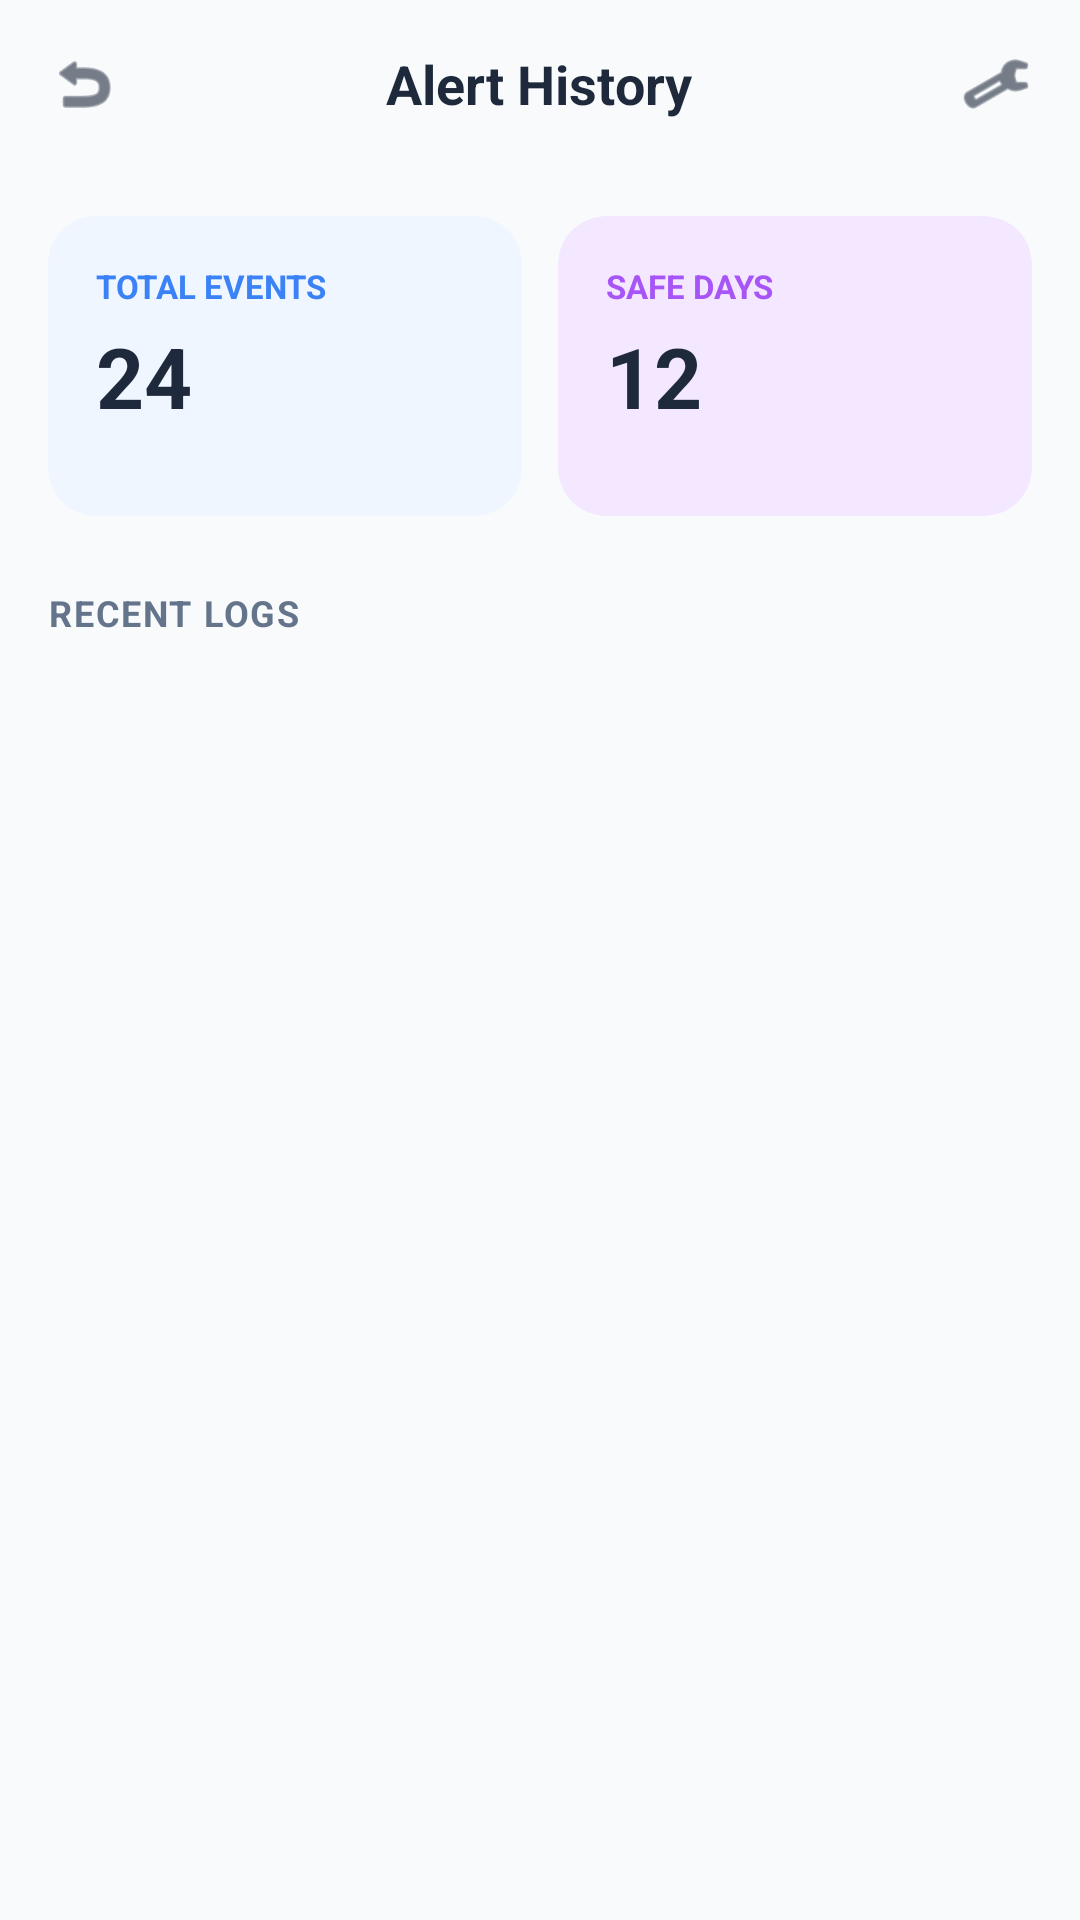

Where to tap for icons on this 1080 x 1920 app screen, as (x=x, y=y):
manage: (x=995, y=84)
revert: (x=85, y=84)
